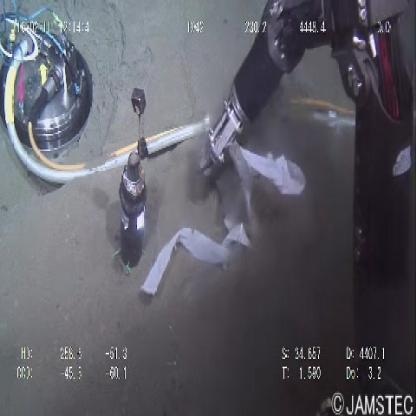Rov: (196, 1, 416, 186), (1, 1, 96, 190), (114, 74, 154, 285)
Rác: (140, 144, 310, 300)
